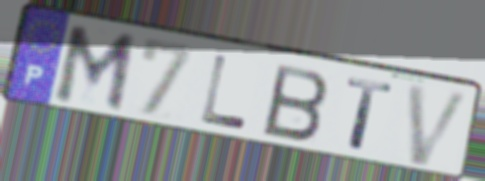7: (136, 36, 198, 122)
B: (260, 61, 332, 144)
L: (198, 52, 250, 132)
M: (50, 23, 140, 117)
T: (344, 76, 397, 154)
V: (404, 81, 476, 169)
